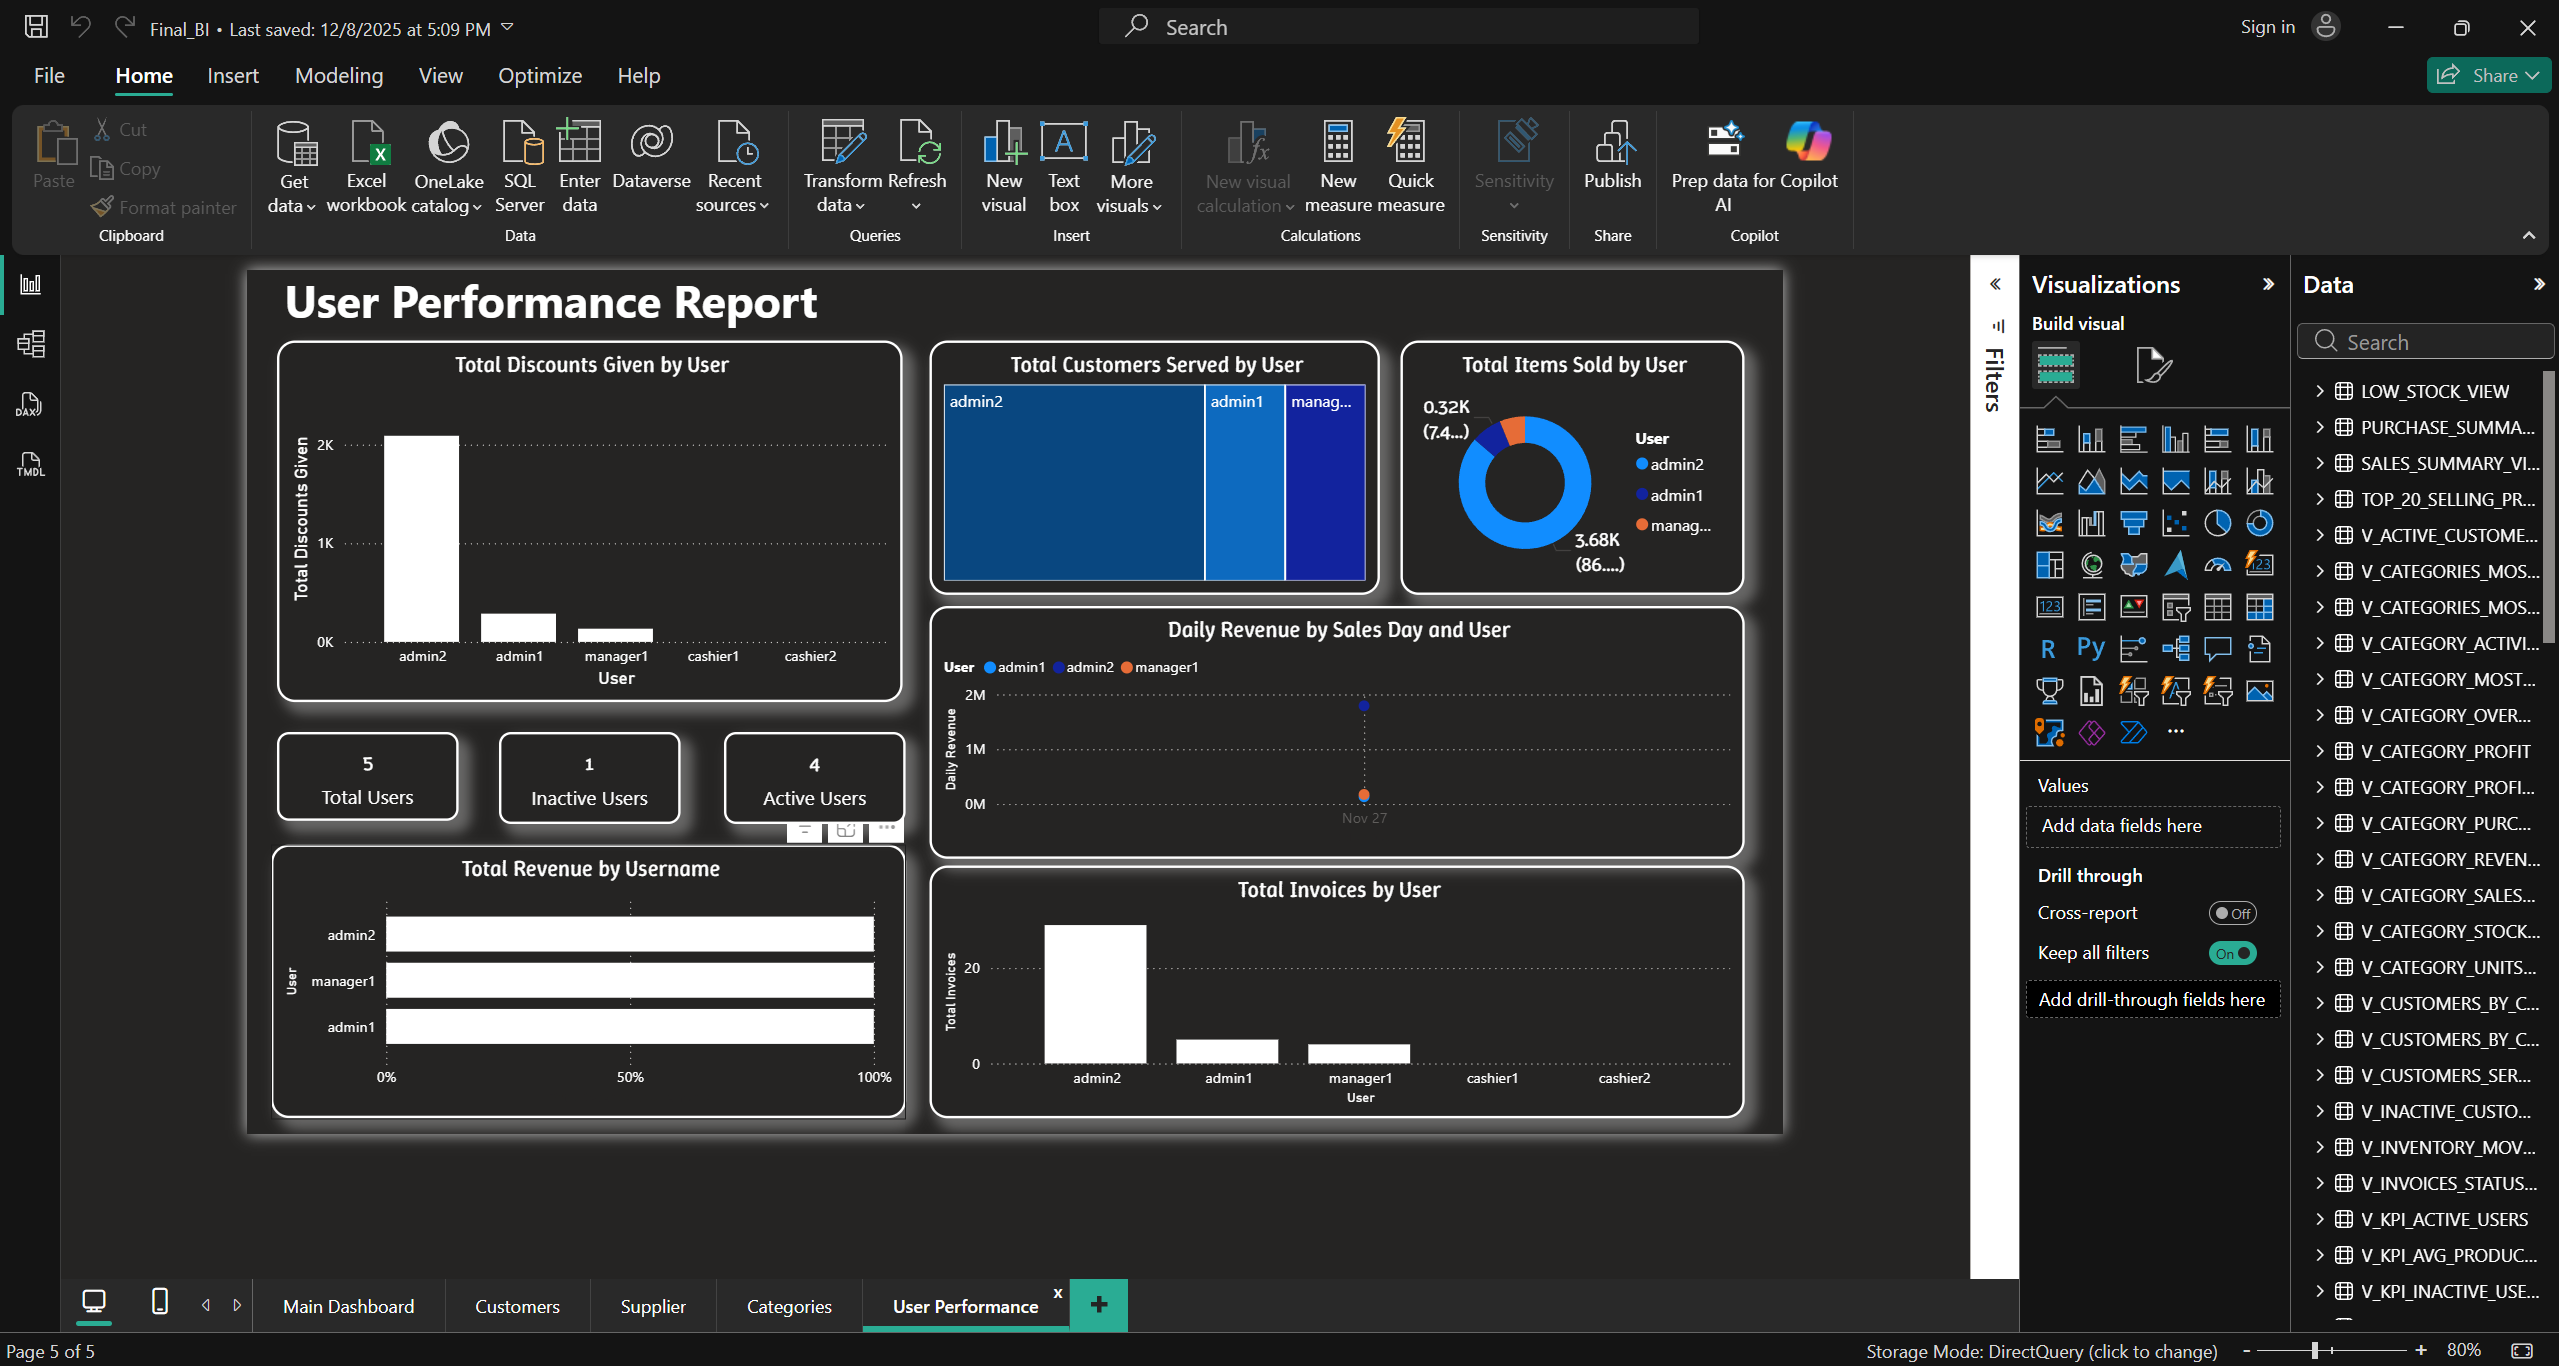

This screenshot's page, from the dashboard's own definition file:
{"tool":"powerbi","page":{"name":"User Performance","canvas":[1280,720],"ordinal":4},"visuals":[{"type":"textbox","box":[25.7,0,528.6,58.6],"z":0},{"type":"clusteredColumnChart","fields":{"Category":["V_USER_TOTAL_INVOICES.USERNAME"],"Y":["Sum(V_USER_TOTAL_INVOICES.TOTAL_INVOICES)"]},"box":[569.2,496.2,679.3,210.9],"z":1000},{"type":"hundredPercentStackedBarChart","title":"Total Revenue by Username","fields":{"Y":["Sum(V_USER_TOTAL_REVENUE.TOTAL_REVENUE)"],"Category":["V_USER_TOTAL_REVENUE.USERNAME"]},"box":[19.9,478.9,529.4,228.2],"z":2000},{"type":"donutChart","fields":{"Y":["Sum(V_USER_TOTAL_ITEMS_SOLD.TOTAL_ITEMS_SOLD)"],"Category":["V_USER_TOTAL_ITEMS_SOLD.USERNAME"]},"box":[961.9,58.4,286.6,212.3],"z":3000},{"type":"treemap","fields":{"Values":["Sum(V_USER_TOTAL_CUSTOMERS.TOTAL_CUSTOMERS_SERVED)"],"Group":["V_USER_TOTAL_CUSTOMERS.USERNAME"]},"box":[569.2,58.4,375.5,212.3],"z":4000},{"type":"columnChart","fields":{"Y":["Sum(V_USER_TOTAL_DISCOUNTS.TOTAL_DISCOUNTS_GIVEN)"],"Category":["V_USER_TOTAL_DISCOUNTS.USERNAME"]},"box":[25.2,58.4,521.4,301.2],"z":5000},{"type":"lineChart","fields":{"Category":["V_USER_DAILY_REVENUE.SALE_DAY"],"Y":["Sum(V_USER_DAILY_REVENUE.DAILY_REVENUE)"],"Series":["V_USER_DAILY_REVENUE.USERNAME"]},"box":[569.2,279.9,679.3,210.9],"z":6000},{"type":"card","fields":{"Values":["Sum(V_KPI_TOTAL_USERS.TOTAL_USERS)"]},"box":[25.2,384.7,151.2,74.3],"z":7000},{"type":"card","fields":{"Values":["Sum(V_KPI_ACTIVE_USERS.ACTIVE_USERS)"]},"box":[398,384.7,151.2,76.9],"z":8000},{"type":"card","fields":{"Values":["Sum(V_KPI_INACTIVE_USERS.ACTIVE_USERS)"]},"box":[209.6,384.7,151.2,76.9],"z":9000}]}

Visuals, with their boxes on the page's 1280x720 design canvas (x1, y1, x2, y2). These are canvas units, not pixel positions in the 2559x1366 screenshot, which may show the page scaled, cropped or inside an application window:
textbox: 26:0:554:59
clusteredColumnChart - V_USER_TOTAL_INVOICES.USERNAME x Sum(V_USER_TOTAL_INVOICES.TOTAL_INVOICES): 569:496:1248:707
"Total Revenue by Username" hundredPercentStackedBarChart: 20:479:549:707
donutChart - Sum(V_USER_TOTAL_ITEMS_SOLD.TOTAL_ITEMS_SOLD) x V_USER_TOTAL_ITEMS_SOLD.USERNAME: 962:58:1248:271
treemap - Sum(V_USER_TOTAL_CUSTOMERS.TOTAL_CUSTOMERS_SERVED) x V_USER_TOTAL_CUSTOMERS.USERNAME: 569:58:945:271
columnChart - Sum(V_USER_TOTAL_DISCOUNTS.TOTAL_DISCOUNTS_GIVEN) x V_USER_TOTAL_DISCOUNTS.USERNAME: 25:58:547:360
lineChart - V_USER_DAILY_REVENUE.SALE_DAY x Sum(V_USER_DAILY_REVENUE.DAILY_REVENUE): 569:280:1248:491
card - Sum(V_KPI_TOTAL_USERS.TOTAL_USERS): 25:385:176:459
card - Sum(V_KPI_ACTIVE_USERS.ACTIVE_USERS): 398:385:549:462
card - Sum(V_KPI_INACTIVE_USERS.ACTIVE_USERS): 210:385:361:462
